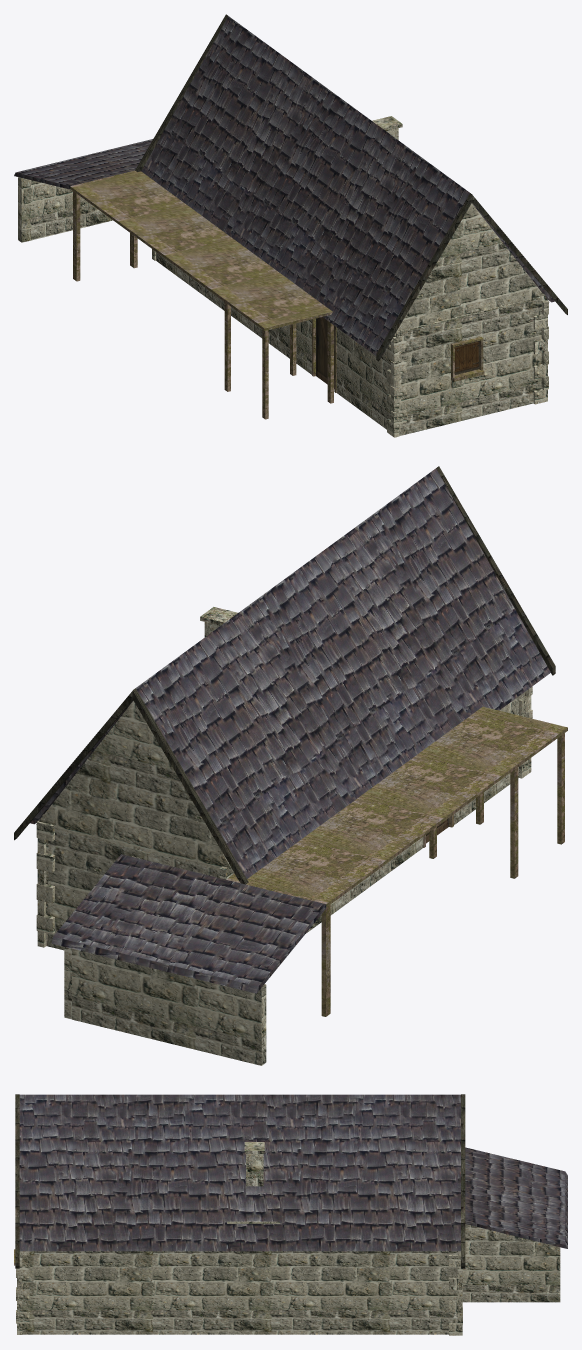
Rendered from rock-house.fbx.
The picture shows the model from 3 angles, top to bottom: view 1: azimuth 30°, elevation 25°; view 2: azimuth 150°, elevation 25°; view 3: azimuth 270°, elevation 25°; orthographic projection. The views are drawn at different scales.
Parts seen in each view (by area): view 1: Object_cr.jpg, Object_naturestones2k.jpg, Object_wood_lichen.jpg, Object_mr8.jpg, Object_md34.jpg, Object_msw32.jpg; view 2: Object_cr.jpg, Object_naturestones2k.jpg, Object_wood_lichen.jpg, Object_mr8.jpg; view 3: Object_cr.jpg, Object_naturestones2k.jpg, Object_mr8.jpg.
Part boxes in pixels (<box>): Object_cr.jpg: <box>14,16,554,356</box>; Object_naturestones2k.jpg: <box>18,116,549,437</box>; Object_wood_lichen.jpg: <box>70,170,484,419</box>; Object_mr8.jpg: <box>135,14,567,361</box>; Object_md34.jpg: <box>316,317,334,388</box>; Object_msw32.jpg: <box>455,341,479,374</box>; Object_cr.jpg: <box>30,468,550,993</box>; Object_naturestones2k.jpg: <box>36,607,532,1065</box>; Object_wood_lichen.jpg: <box>62,706,567,1016</box>; Object_mr8.jpg: <box>14,466,555,884</box>; Object_cr.jpg: <box>19,1094,567,1251</box>; Object_naturestones2k.jpg: <box>16,1142,560,1335</box>; Object_mr8.jpg: <box>15,1094,465,1268</box>.
Bounding box in the file's own units: 1.2 × 1.03 × 2.5.
